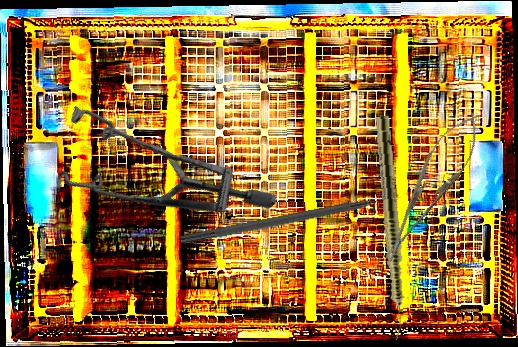Handpiece: (372, 115, 410, 341)
Hook Surgical: (179, 191, 403, 248)
Needle Holder: (370, 103, 492, 271)
Speculum: (23, 45, 281, 307)
